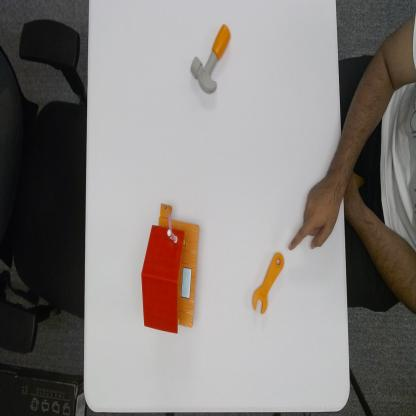Hammer: (190, 22, 232, 94)
Hand: (286, 167, 340, 253)
House: (140, 202, 201, 333)
Screwdriver: (251, 251, 285, 318)
